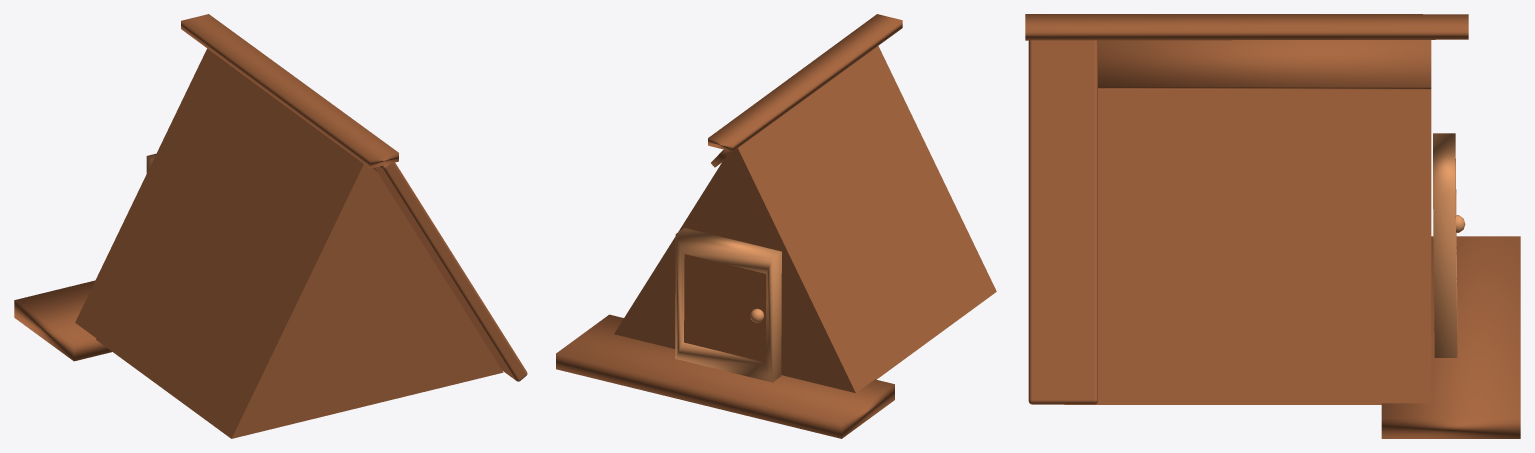
3 views of the same model, side by side, from view 1: azimuth 30°, elevation 25°; view 2: azimuth 150°, elevation 25°; view 3: azimuth 270°, elevation 25° (orthographic). The views are drawn at different scales.
Visible parts, largest first — view 1: Cube, Cube.003, Cube.001, Plane.005; view 2: Cube, Plane.005, Plane, Cube.003, Plane.001, Plane.003, Plane.002; view 3: Cube, Cube.001, Plane.005, Cube.002, Cube.003, Plane.
Boxes of the visible parts, <box> form: Cube: <box>75,48,503,438</box>; Cube.003: <box>181,14,398,168</box>; Cube.001: <box>374,162,527,381</box>; Plane.005: <box>14,280,111,361</box>; Cube: <box>614,46,996,393</box>; Plane.005: <box>556,314,894,438</box>; Plane: <box>675,228,781,382</box>; Cube.003: <box>708,14,902,151</box>; Plane.001: <box>684,254,766,362</box>; Plane.003: <box>734,266,751,358</box>; Plane.002: <box>701,258,717,350</box>; Cube: <box>1064,89,1431,404</box>; Cube.001: <box>1028,40,1097,404</box>; Plane.005: <box>1381,236,1520,438</box>; Cube.002: <box>1098,40,1431,89</box>; Cube.003: <box>1025,14,1468,40</box>; Plane: <box>1433,133,1457,357</box>.
Bounding box in the file's own units: 6.2 × 5.15 × 7.12.
